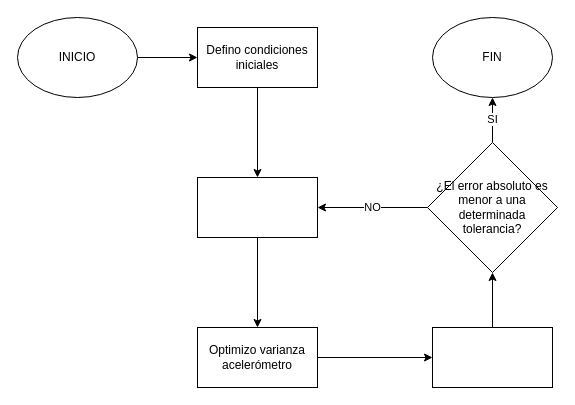
The diagram is 575 pixels wide and 405 high, and some of its shapes have lost their labels. Here are the shapes that lost their labels. From the top down, the centre of each, then its label:
At point 257,207: "Optimizo varianza giroscopio".
At point 492,357: "Optimizo varianza magnetómetro".
